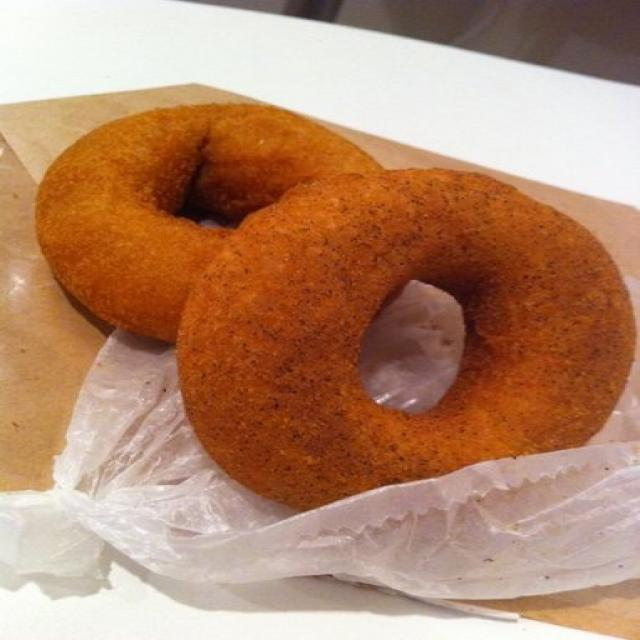Donuts: (35, 89, 640, 530)
